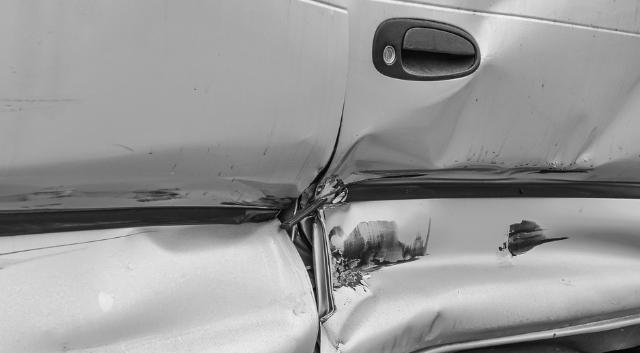Door: (0, 0, 640, 351)
